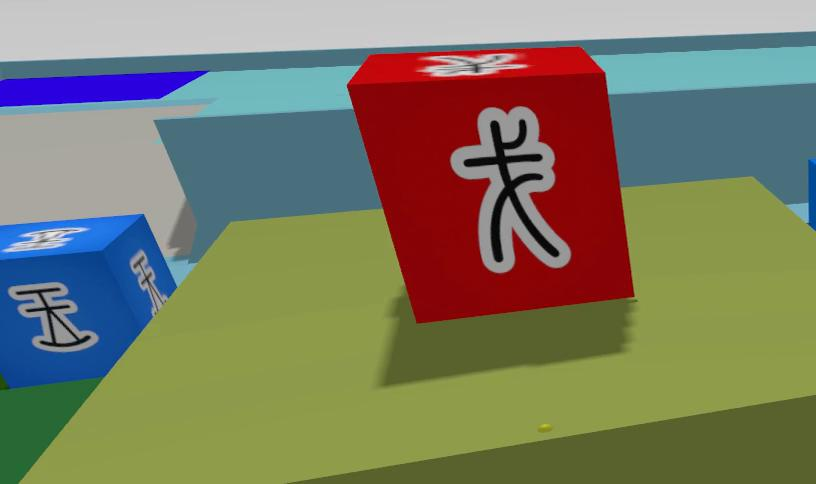KFS_FAKE: (349, 41, 637, 329), (451, 109, 570, 272), (420, 52, 524, 76)
KFS_REAL: (0, 211, 179, 388), (8, 284, 97, 352), (129, 250, 166, 314), (0, 227, 85, 252), (805, 157, 816, 226)
